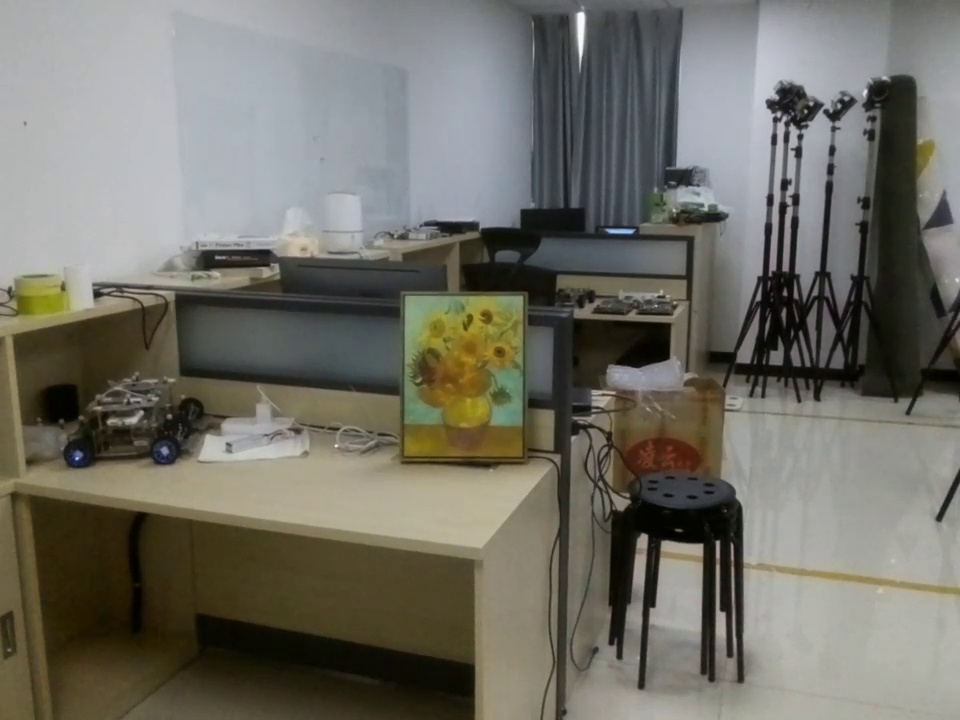painting: (396, 289, 539, 466)
